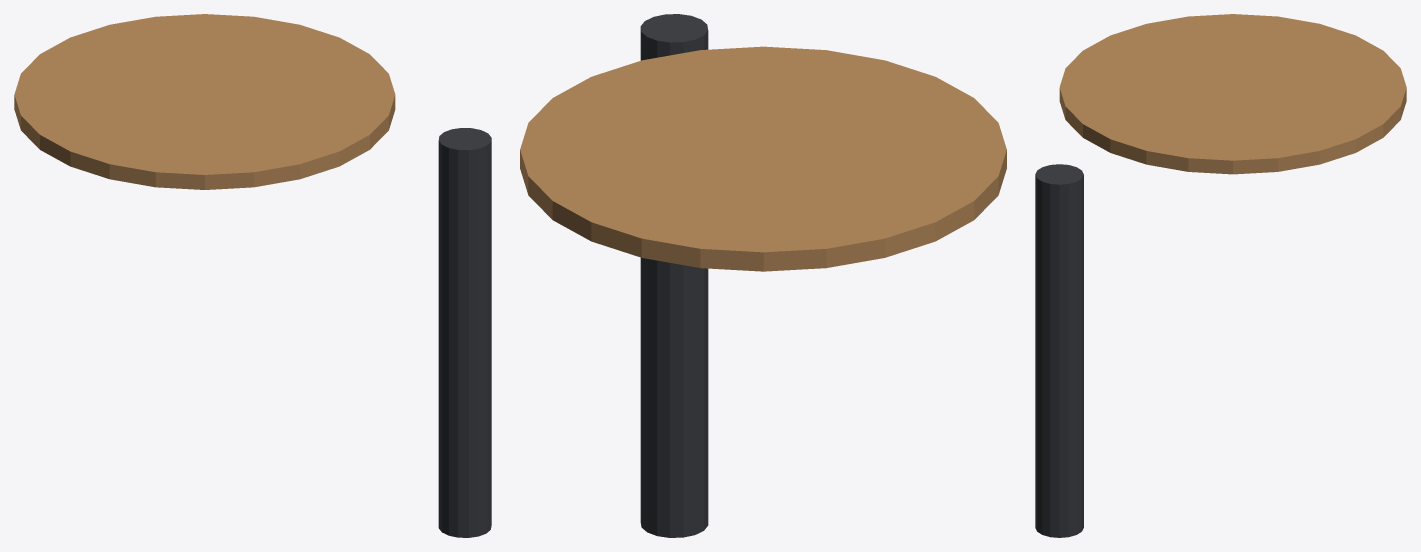
File: table_hightop_round_36.glb
3 renders of one model, left to right at view 1: azimuth 30°, elevation 25°; view 2: azimuth 150°, elevation 25°; view 3: azimuth 270°, elevation 25°, orthographic. The views are drawn at different scales.
Size of the model in its own units: 0.9784 by 1.07 by 0.9784.
